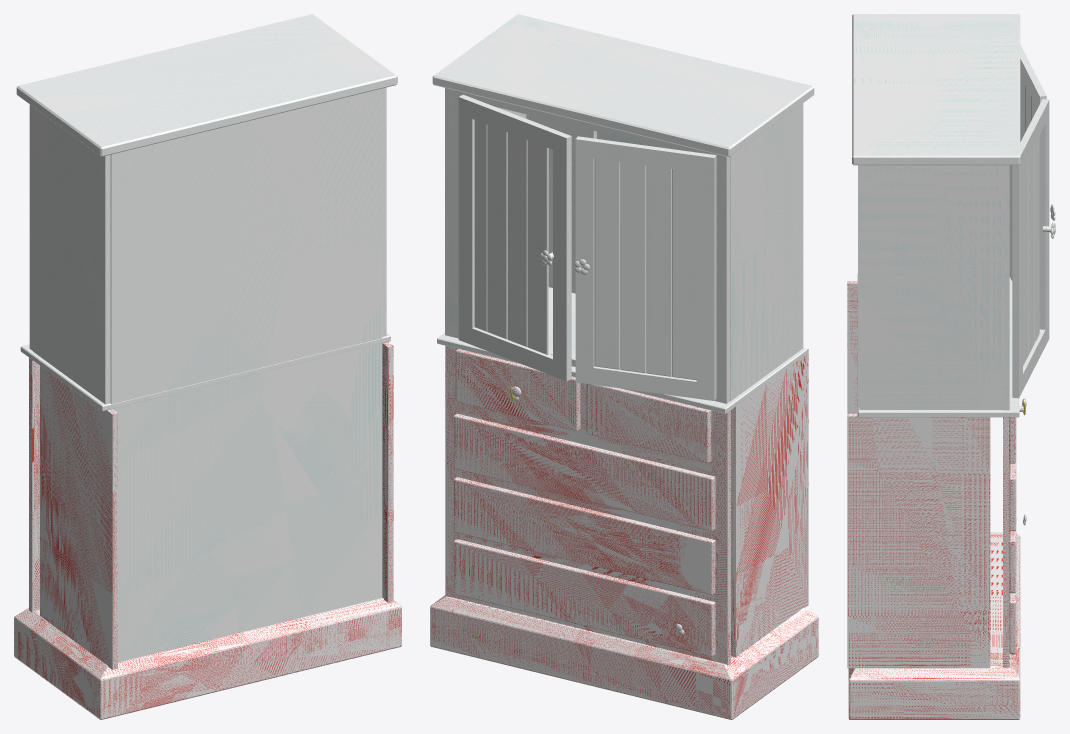
3 views of the same model, side by side, from view 1: azimuth 30°, elevation 25°; view 2: azimuth 150°, elevation 25°; view 3: azimuth 270°, elevation 25° (orthographic).
Visible parts, largest first — view 1: mesh75_mesh75-geometry, mesh65_mesh65-geometry, mesh70_mesh70-geometry, mesh77_mesh77-geometry, mesh79_mesh79-geometry, mesh76_mesh76-geometry, mesh78_mesh78-geometry, mesh69_mesh69-geometry, mesh80_mesh80-geometry, mesh81_mesh81-geometry; view 2: mesh13_mesh13-geometry, mesh65_mesh65-geometry, mesh70_mesh70-geometry, mesh77_mesh77-geometry, mesh79_mesh79-geometry, mesh78_mesh78-geometry, mesh52_mesh52-geometry, mesh67_mesh67-geometry, mesh64_mesh64-geometry, mesh81_mesh81-geometry, mesh49_mesh49-geometry, mesh51_mesh51-geometry (+8 smaller); view 3: mesh76_mesh76-geometry, mesh80_mesh80-geometry, mesh65_mesh65-geometry, mesh70_mesh70-geometry, mesh64_mesh64-geometry, mesh69_mesh69-geometry, mesh81_mesh81-geometry, mesh78_mesh78-geometry, mesh13_mesh13-geometry, mesh77_mesh77-geometry, mesh61_mesh61-geometry, mesh60_mesh60-geometry (+5 smaller).
Part boxes in pixels (x1,y1,x2,y2): mesh75_mesh75-geometry: [110, 88, 382, 662]; mesh65_mesh65-geometry: [16, 14, 397, 156]; mesh70_mesh70-geometry: [14, 597, 401, 719]; mesh77_mesh77-geometry: [40, 366, 117, 669]; mesh79_mesh79-geometry: [33, 107, 110, 404]; mesh76_mesh76-geometry: [382, 342, 393, 602]; mesh78_mesh78-geometry: [29, 358, 39, 612]; mesh69_mesh69-geometry: [20, 333, 390, 411]; mesh80_mesh80-geometry: [382, 87, 386, 336]; mesh81_mesh81-geometry: [29, 104, 32, 350]; mesh13_mesh13-geometry: [454, 413, 715, 656]; mesh65_mesh65-geometry: [432, 14, 814, 156]; mesh70_mesh70-geometry: [430, 595, 818, 719]; mesh77_mesh77-geometry: [731, 349, 808, 657]; mesh79_mesh79-geometry: [730, 103, 803, 401]; mesh78_mesh78-geometry: [445, 345, 730, 665]; mesh52_mesh52-geometry: [575, 136, 716, 400]; mesh67_mesh67-geometry: [455, 349, 711, 463]; mesh64_mesh64-geometry: [458, 94, 571, 381]; mesh81_mesh81-geometry: [445, 88, 730, 403]; mesh49_mesh49-geometry: [620, 162, 646, 373]; mesh51_mesh51-geometry: [594, 158, 620, 369]; mesh76_mesh76-geometry: [847, 413, 990, 668]; mesh80_mesh80-geometry: [859, 165, 1002, 409]; mesh65_mesh65-geometry: [852, 14, 1020, 165]; mesh70_mesh70-geometry: [848, 532, 1020, 719]; mesh64_mesh64-geometry: [1012, 99, 1049, 398]; mesh69_mesh69-geometry: [857, 274, 1019, 417]; mesh81_mesh81-geometry: [1002, 165, 1009, 410]; mesh78_mesh78-geometry: [1003, 417, 1009, 667]; mesh13_mesh13-geometry: [1009, 462, 1016, 654]; mesh77_mesh77-geometry: [847, 281, 857, 413]; mesh61_mesh61-geometry: [1028, 147, 1033, 355]; mesh60_mesh60-geometry: [1034, 136, 1039, 344].
Size of the model in its own units: 0.4648 by 0.8394 by 0.2818.
